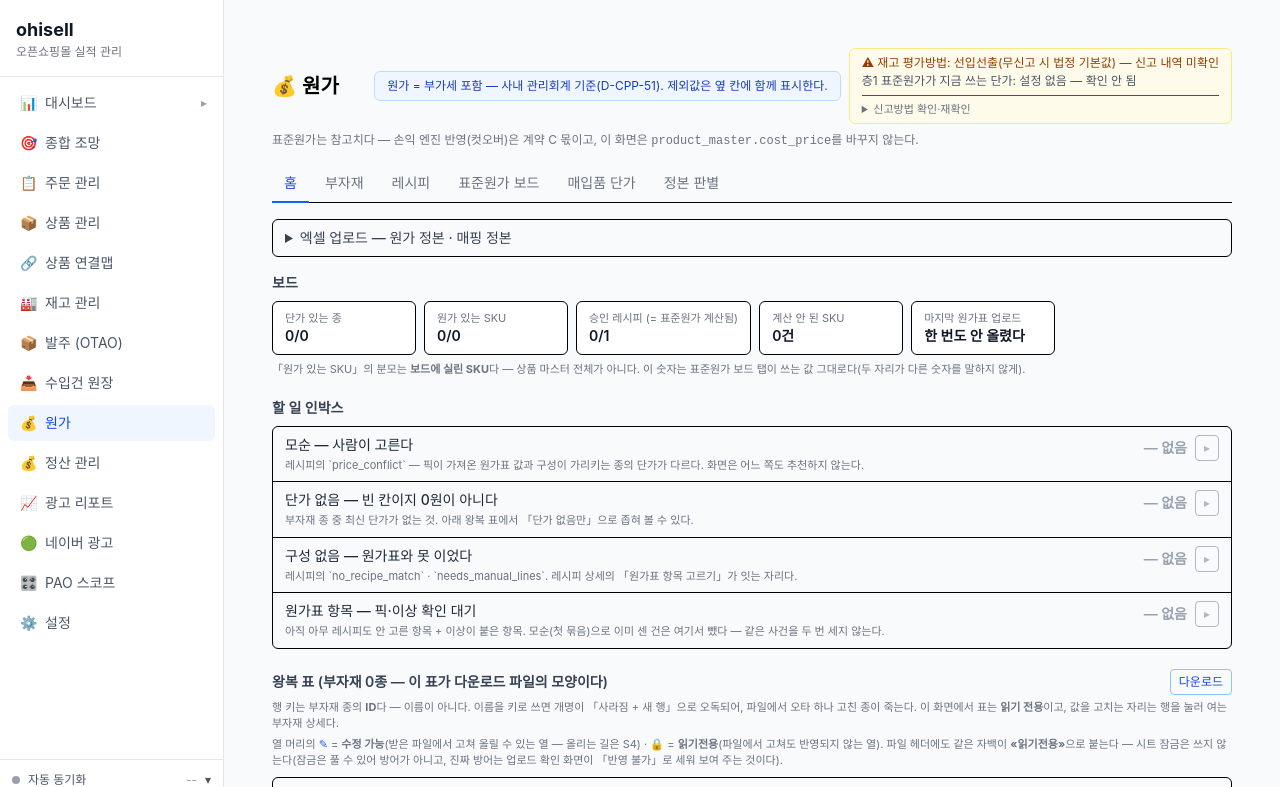
Test: ★원가표 픽이 사람에게 닿는 경로 — 라우트·페이지·호출부가 한 줄로 이어진다 › ★핀이 끊기면 화면이 말한다 — 조용한 소실은 미달이다 (합격 20)
Expected: the heading "💰 원가" is shown, [272, 72, 339, 100]
Click the button "레시피".
click(411, 184)  # box [380, 165, 442, 203]
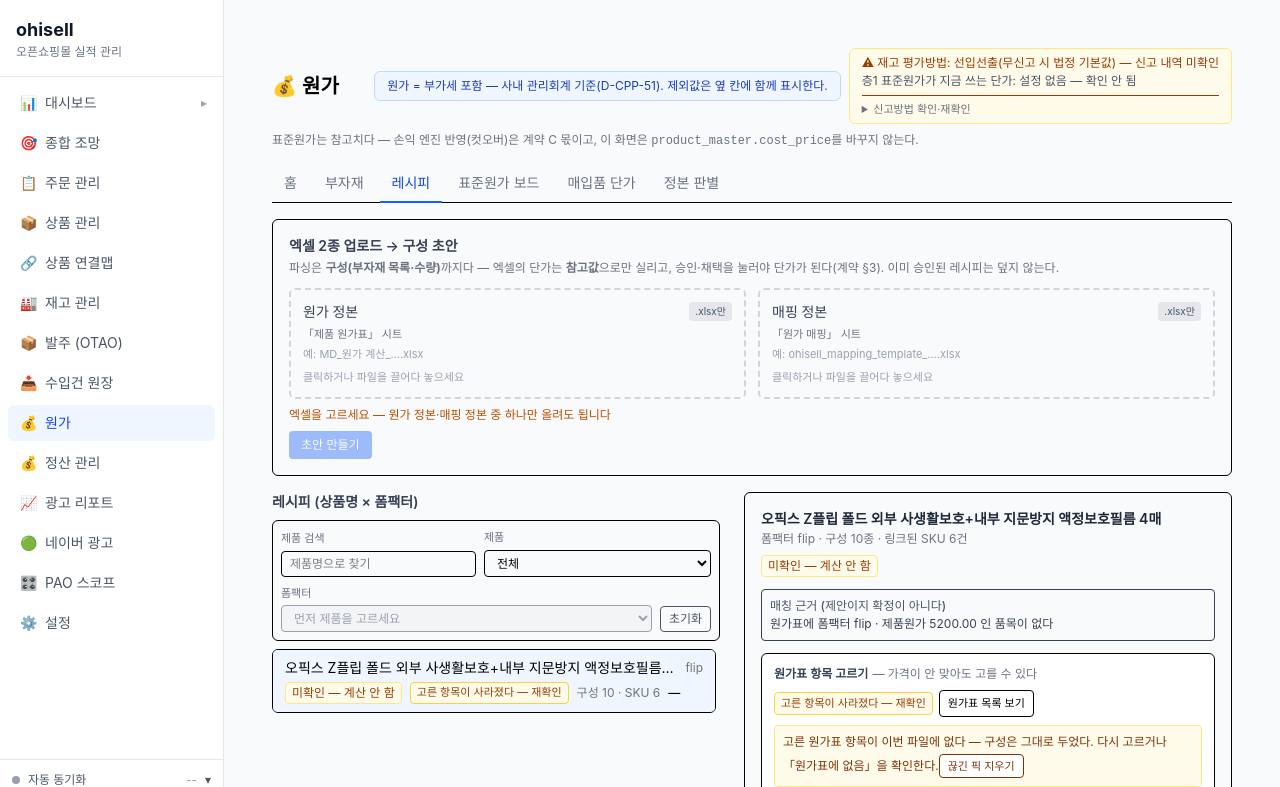
Expected: the 1st text with test id "pick-state-pin_lost" is shown, [410, 682, 569, 704]
Expected: the element with test id "picker-pin-broken" shows "구성은 그대로 두었다", [783, 734, 1167, 773]
